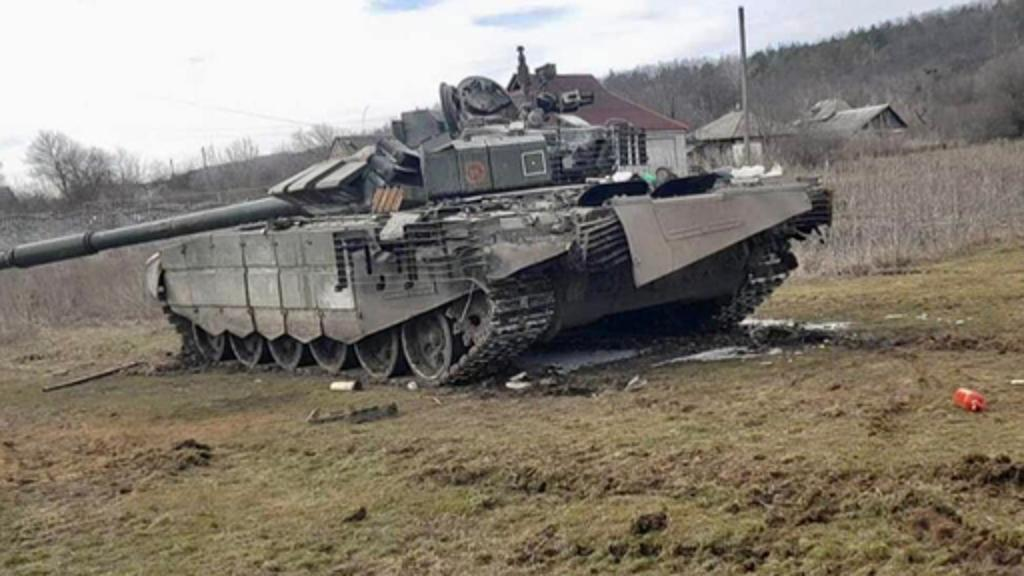TANK: (0, 42, 834, 390)
